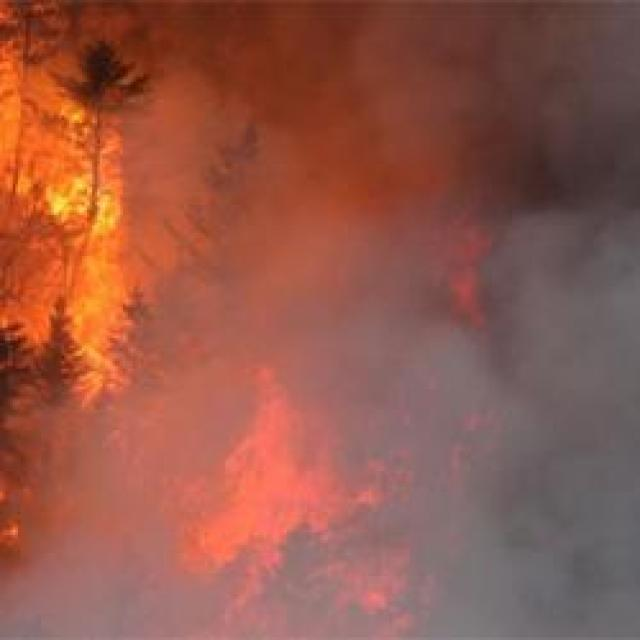Fire: (0, 0, 120, 572)
Smoke: (108, 0, 640, 637)
